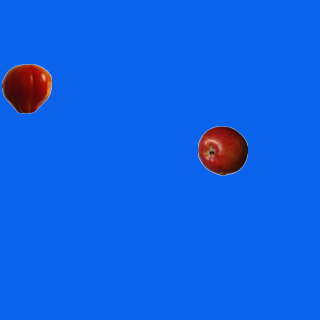Apple Braeburn: (197, 125, 247, 175)
Tomato 1: (1, 63, 51, 113)
